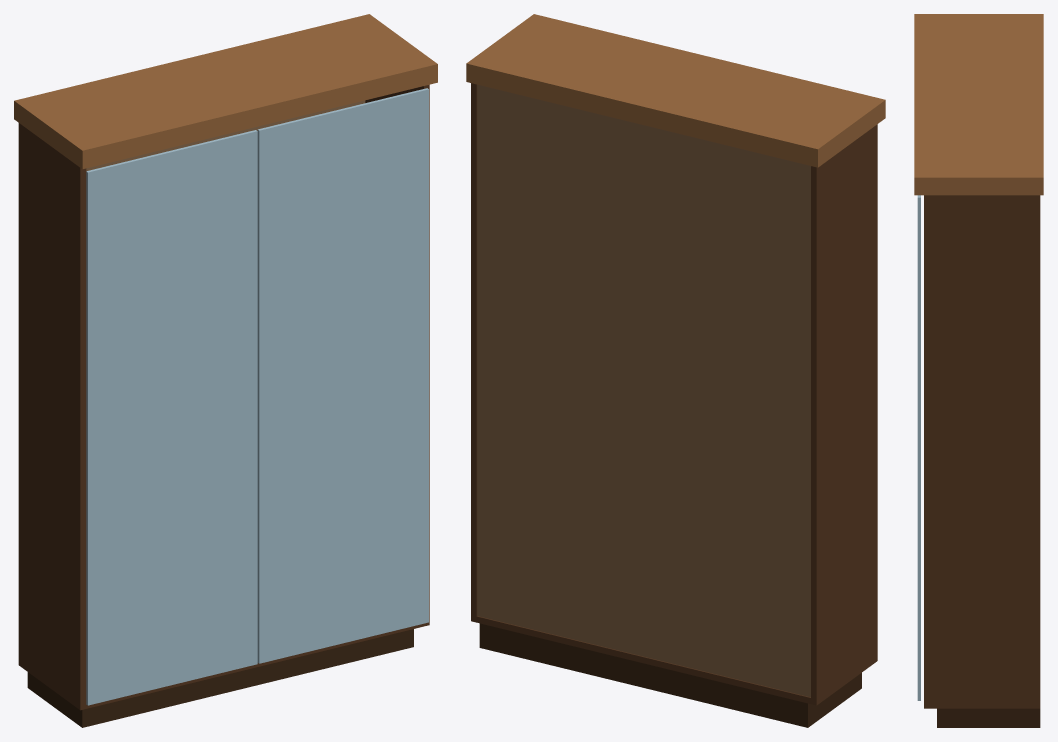
Rendered from glasscabinet-lite.glb.
3 renders of one model, left to right at view 1: azimuth 30°, elevation 25°; view 2: azimuth 150°, elevation 25°; view 3: azimuth 270°, elevation 25°, orthographic. The views are drawn at different scales.
Visible parts, largest first — view 1: material-1-glass, material-0-body, material-6-top, material-4-base, material-2-interior; view 2: material-2-interior, material-0-body, material-6-top, material-4-base; view 3: material-0-body, material-6-top, material-4-base, material-1-glass.
Boxes of the visible parts, bbox=[...] form: material-1-glass: bbox=[86, 88, 428, 705]; material-0-body: bbox=[18, 84, 429, 710]; material-6-top: bbox=[14, 14, 437, 169]; material-4-base: bbox=[27, 629, 413, 727]; material-2-interior: bbox=[86, 100, 365, 171]; material-2-interior: bbox=[477, 84, 810, 697]; material-0-body: bbox=[471, 83, 877, 705]; material-6-top: bbox=[466, 14, 885, 167]; material-4-base: bbox=[479, 623, 861, 727]; material-0-body: bbox=[924, 195, 1040, 708]; material-6-top: bbox=[914, 14, 1043, 195]; material-4-base: bbox=[937, 708, 1040, 727]; material-1-glass: bbox=[917, 195, 920, 700].
Bounding box in the file's own units: 1.2 × 1.9 × 0.4.
